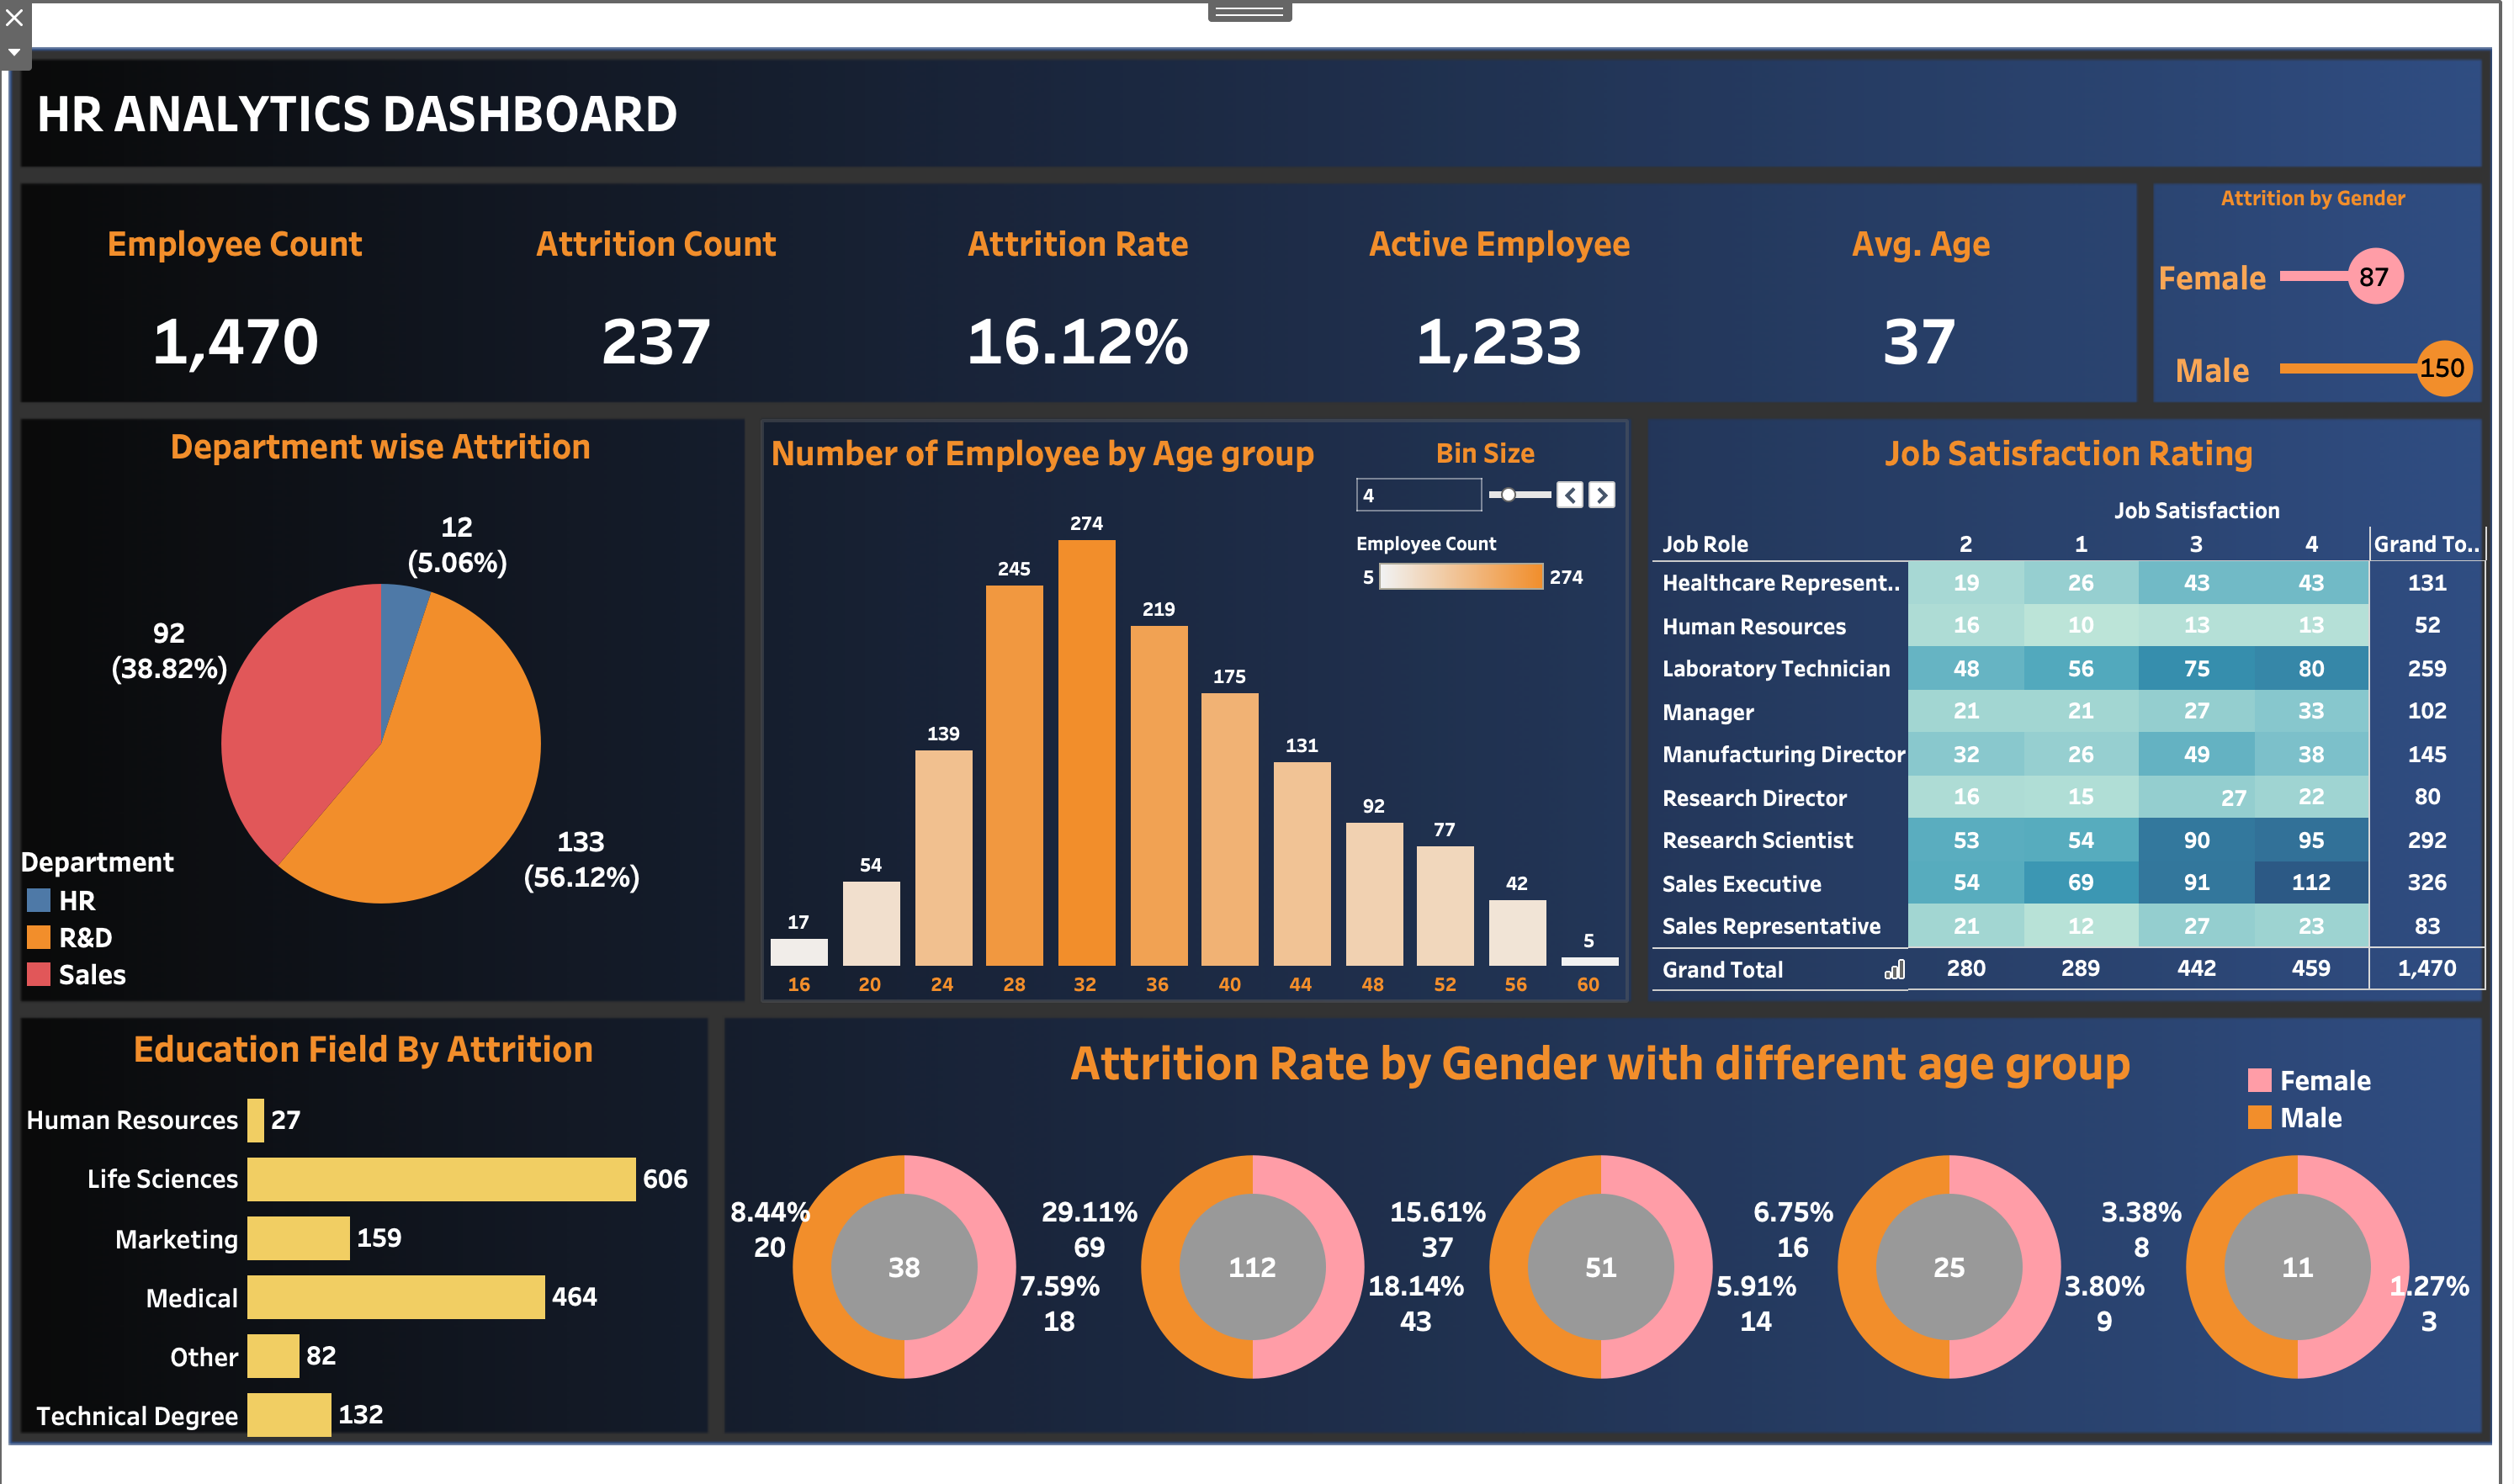

This screenshot's page, from the dashboard's own definition file:
{"tool":"tableau","page":{"name":"Dashboard 1","canvas":[1500,900],"ordinal":0},"visuals":[{"type":"image","param":"/Users/aryanvishwakarma/Desktop/Screenshot 2025-12-15 at 12.41.39 AM.png","box":[8,8,1484,884]},{"type":"text","box":[26,52,387,40]},{"type":"worksheet","title":"Attrition by Gender","mark":"Automatic","rows":["Gender"],"cols":["Calculation_4988020035584000","Calculation_4988020035584000"],"box":[1282,111,200,141]},{"type":"worksheet","title":"KPI","mark":"Automatic","box":[22,114,1252,130]},{"type":"worksheet","title":"Department wise Attrition","mark":"Pie","box":[20,253,427,348]},{"type":"worksheet","title":"Number of Employee by Age group","mark":"Automatic","rows":["Employee Count"],"cols":["Age (bin)"],"box":[461,257,512,343]},{"type":"worksheet","title":"Job Satisfaction Rating","mark":"Square","rows":["Job Role"],"cols":["Job Satisfaction"],"box":[989,257,496,338]},{"type":"parameter","param":"[Parameters].[Parameter 1]","box":[810,264,160,67]},{"type":"legend","title":"Number of Employee by Age group","param":"[federated.11betog1h5bged15d8rui0ui66mr].[sum:Employee Count:qk]","box":[813,321,140,70]},{"type":"legend","title":"Department wise Attrition","param":"[federated.11betog1h5bged15d8rui0ui66mr].[none:Department:nk]","box":[19,507,140,89]},{"type":"worksheet","title":"Education Field By Attrition","mark":"Automatic","rows":["Education Field"],"cols":["Employee Count"],"box":[14,610,418,255]},{"type":"worksheet","title":"Attrition Rate by Gender with different age group","mark":"Pie","rows":["Calculation_4988020181897226","Calculation_4988020181913612"],"cols":["CF_age band"],"box":[441,614,1035,238]},{"type":"legend","title":"Attrition Rate by Gender with different age group","param":"[federated.11betog1h5bged15d8rui0ui66mr].[none:Gender:nk]","box":[1339,614,140,68]}]}

Visuals, with their boxes in screenshot pixels (x1, y1, x2, y2):
image: <bbox>0, 0, 2500, 1440</bbox>
text: <bbox>24, 23, 677, 90</bbox>
"Attrition by Gender" worksheet: <bbox>2145, 122, 2482, 360</bbox>
"KPI" worksheet: <bbox>18, 127, 2131, 347</bbox>
"Department wise Attrition" worksheet (Pie marks): <bbox>14, 362, 735, 949</bbox>
"Number of Employee by Age group" worksheet: <bbox>759, 368, 1623, 947</bbox>
"Job Satisfaction Rating" worksheet (Square marks): <bbox>1650, 368, 2487, 939</bbox>
parameter: <bbox>1348, 380, 1618, 493</bbox>
"Number of Employee by Age group" legend: <bbox>1353, 476, 1589, 595</bbox>
"Department wise Attrition" legend: <bbox>13, 791, 249, 941</bbox>
"Education Field By Attrition" worksheet: <bbox>4, 964, 710, 1395</bbox>
"Attrition Rate by Gender with different age group" worksheet (Pie marks): <bbox>725, 971, 2472, 1373</bbox>
"Attrition Rate by Gender with different age group" legend: <bbox>2241, 971, 2477, 1086</bbox>
